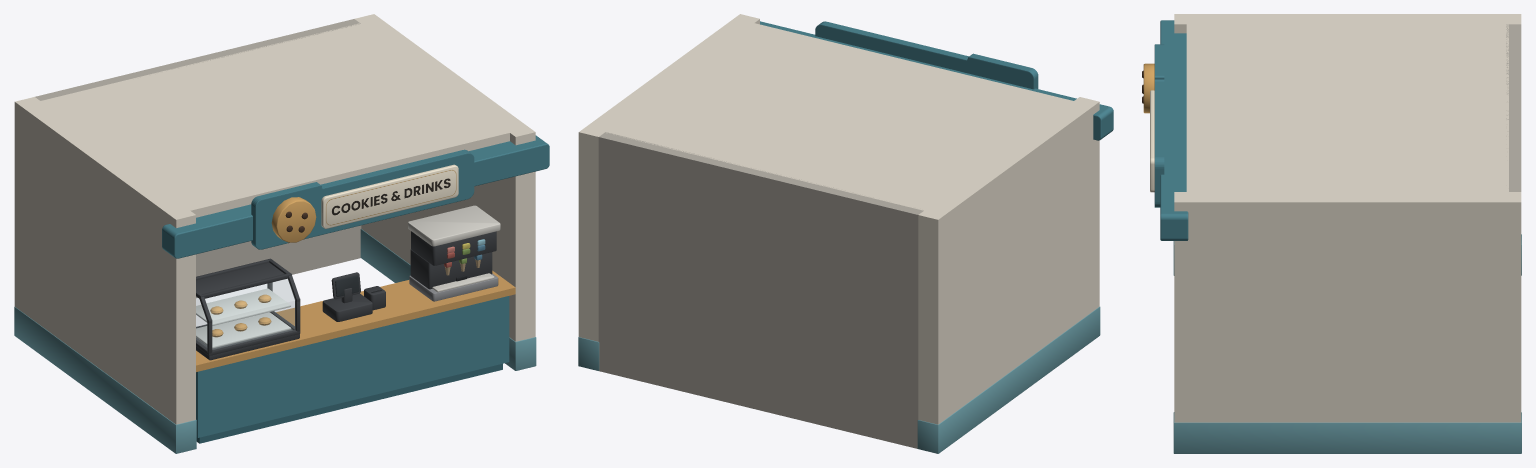
File: stand_cookie.glb
3 views of the same model, side by side, from view 1: azimuth 30°, elevation 25°; view 2: azimuth 150°, elevation 25°; view 3: azimuth 270°, elevation 25° (orthographic). The views are drawn at different scales.
Parts seen in each view (by area): view 1: STAND_Coque, STAND_Vitrine, STAND_Distributeur, STAND_Vitre, STAND_Caisse; view 2: STAND_Coque; view 3: STAND_Coque.
Part boxes in pixels (x1,y1,x2,y2): STAND_Coque: [14, 14, 549, 453]; STAND_Vitrine: [196, 258, 300, 360]; STAND_Distributeur: [408, 205, 500, 301]; STAND_Vitre: [196, 279, 294, 349]; STAND_Caisse: [322, 272, 385, 321]; STAND_Coque: [578, 14, 1113, 453]; STAND_Coque: [1142, 14, 1521, 453].
Size of the model in its own units: 4.7 by 2.9 by 3.83.
Materials: 25 (3 with a texture image).
